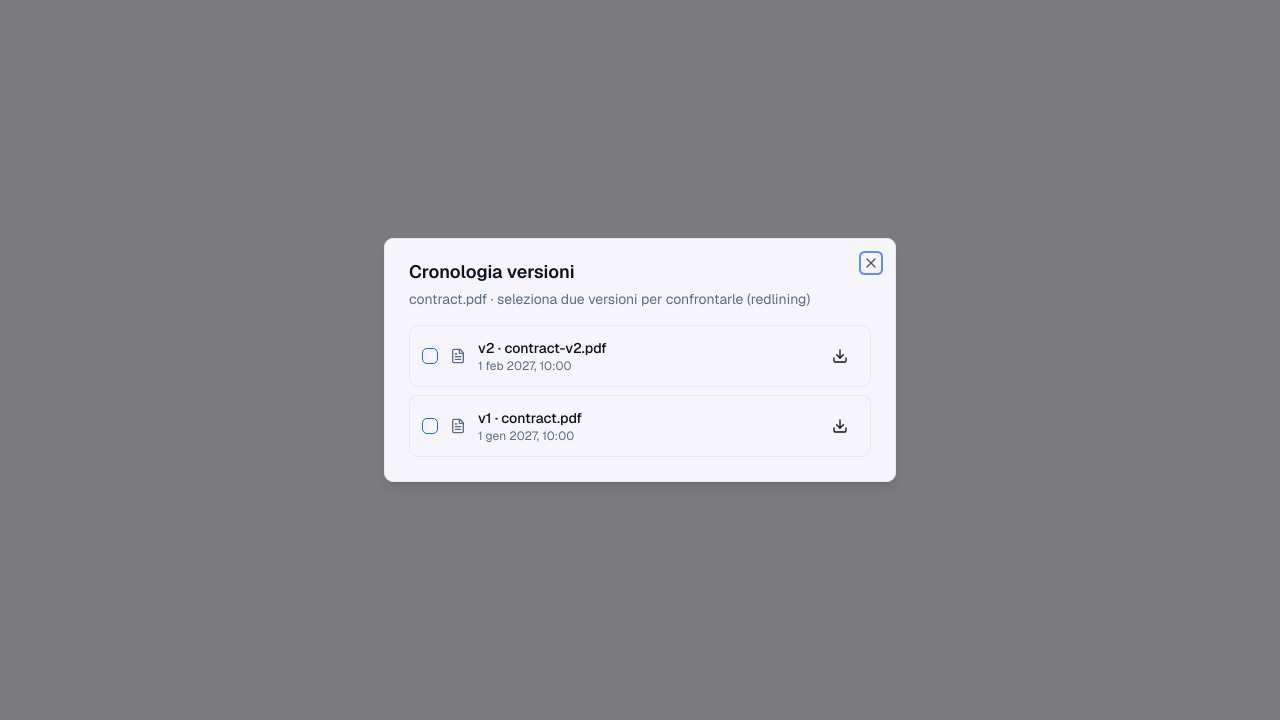
it: DocumentVersionsDialog › renders an empty diff panel without crashing when the diff fetch fails
Click the checkbox named "Seleziona versione 2 per il confronto" at (430,356), box x1=422 y1=348 x2=438 y2=364
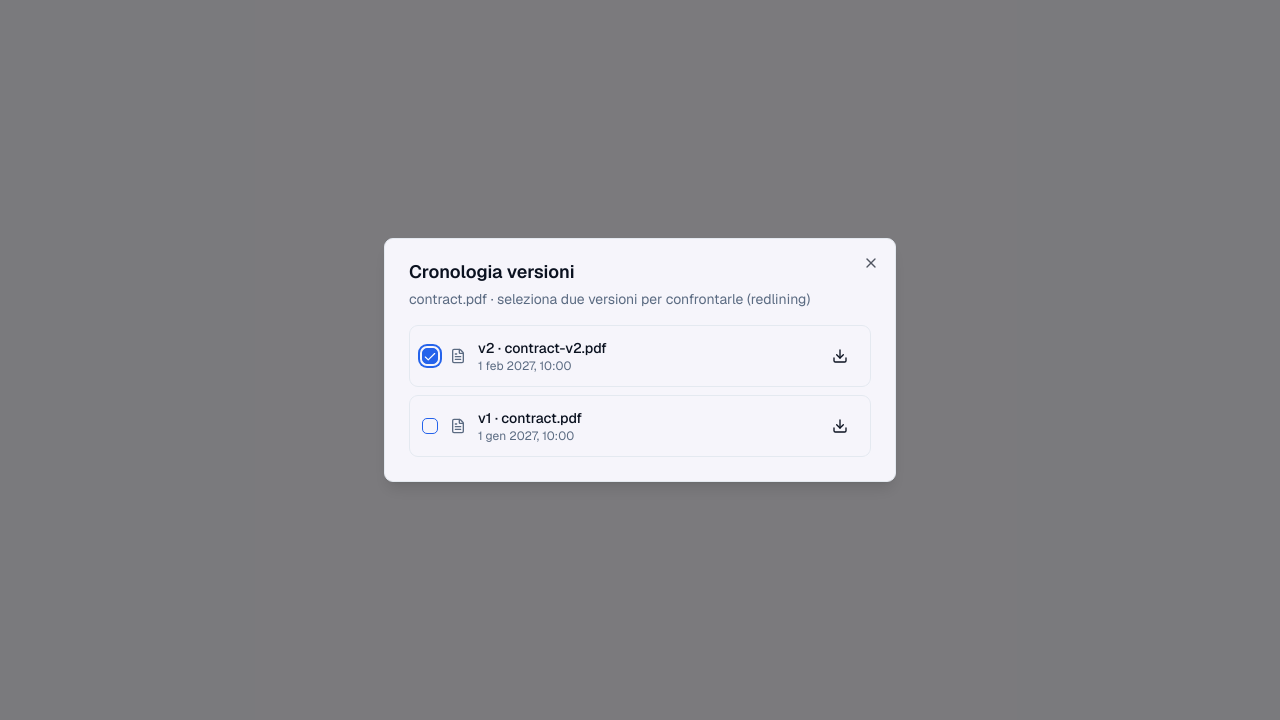
Click the checkbox named "Seleziona versione 1 per il confronto" at (430,426), box x1=422 y1=418 x2=438 y2=434
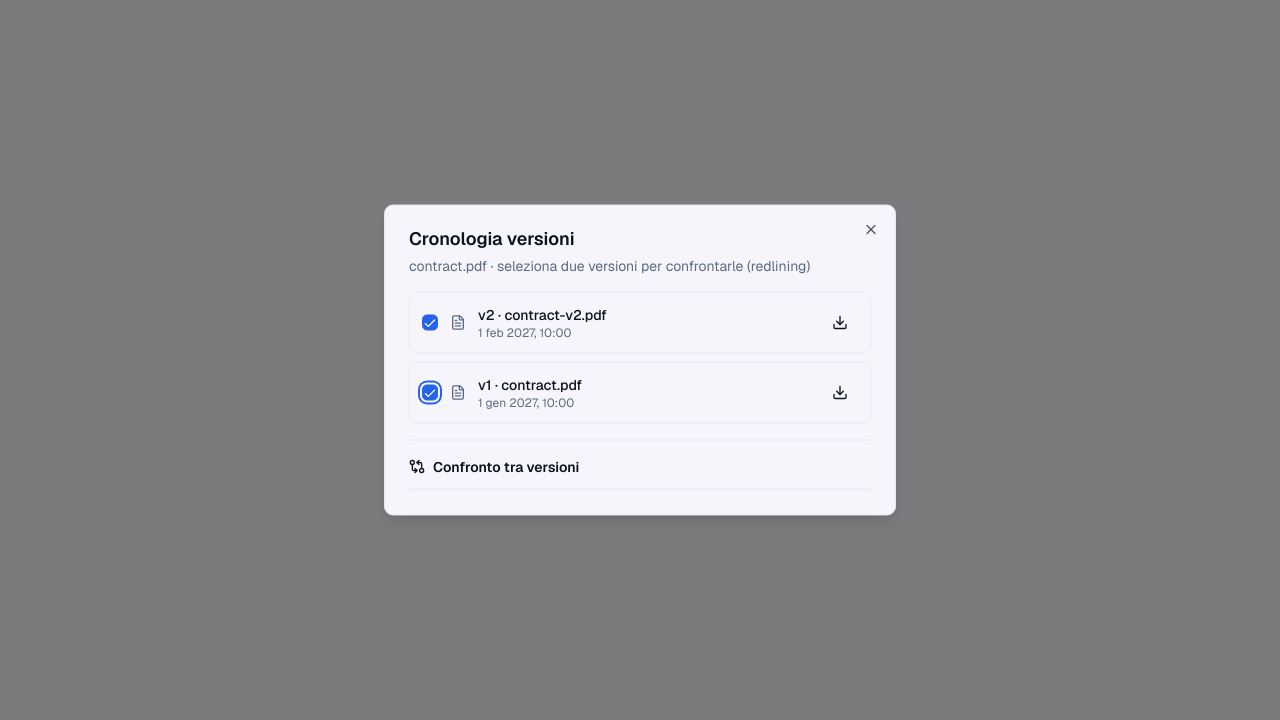
Result: the heading "Confronto tra versioni" is shown at x1=409 y1=458 x2=579 y2=476
